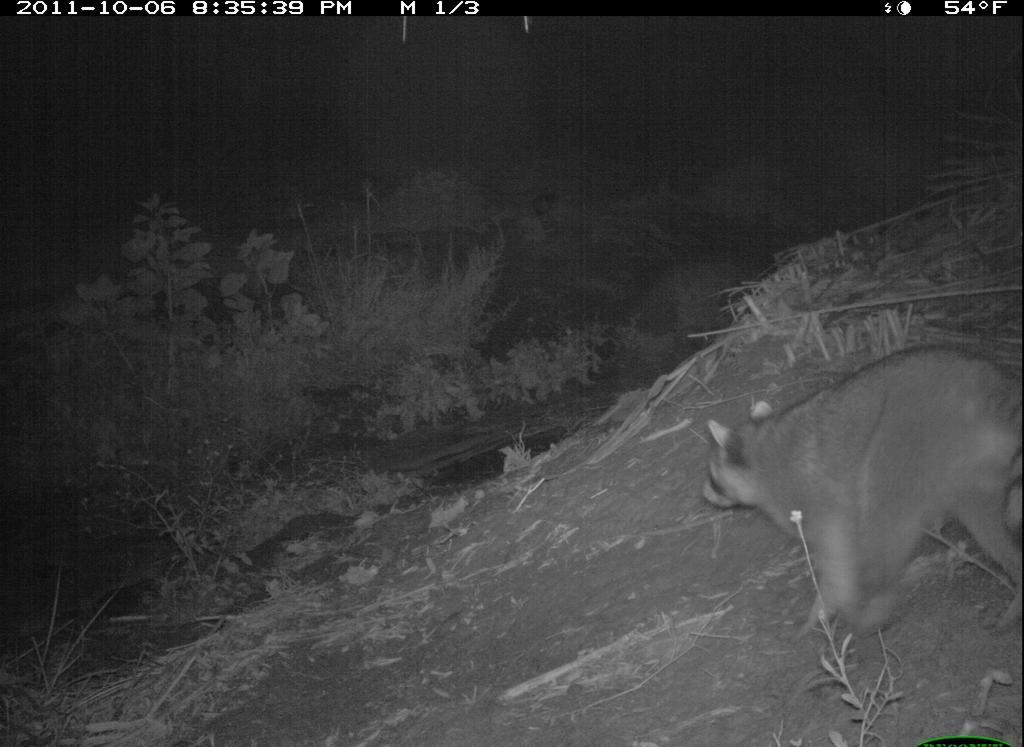raccoon: (679, 340, 1023, 648)
